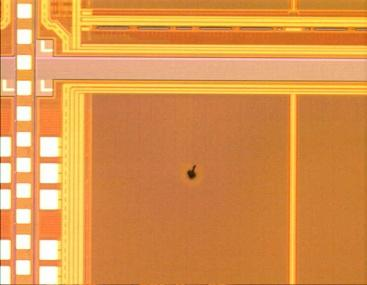PIQ PARTICLE: (182, 162, 205, 184)
